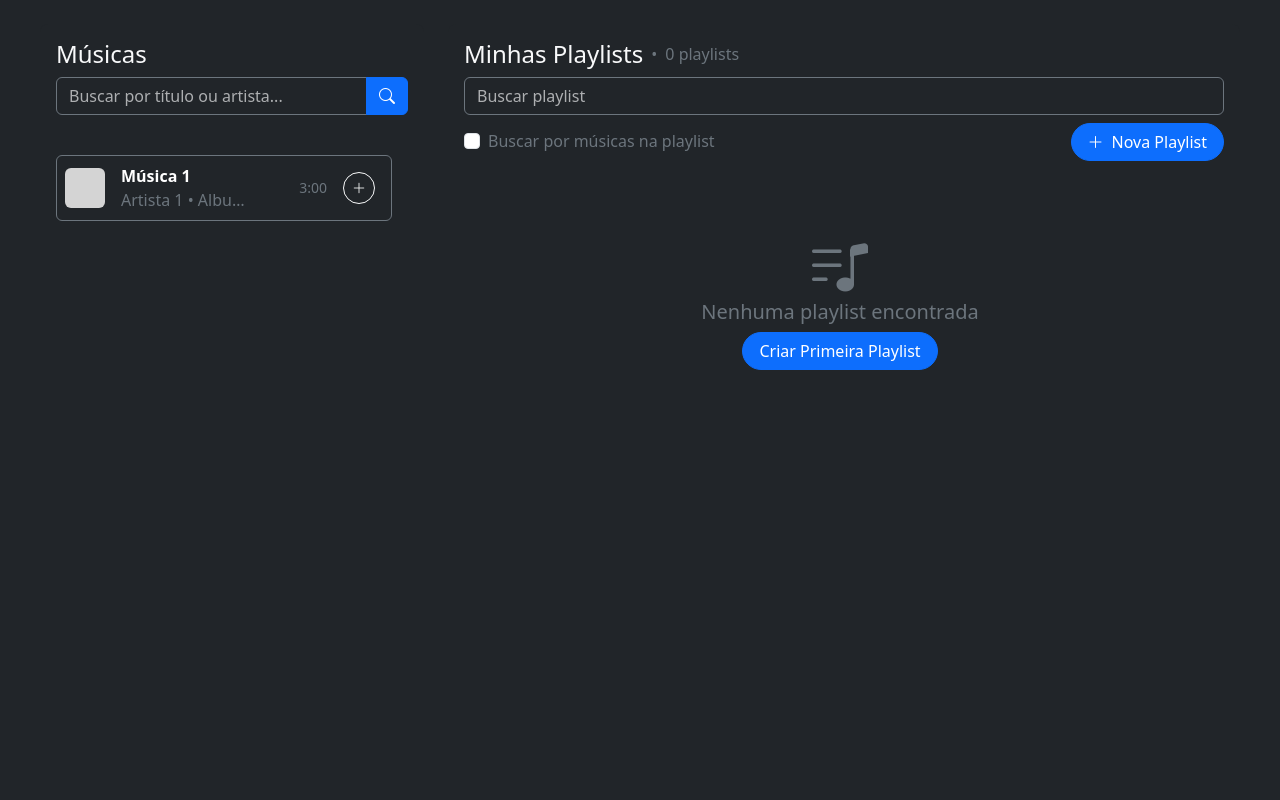
Test: Integração - Criação de Playlist › deve ser possível criar uma playlist
Note: Clica no botão de criar primeira playlist
Click the button "Criar Primeira Playlist" at (840, 351), box left=742, top=332, right=938, bottom=370
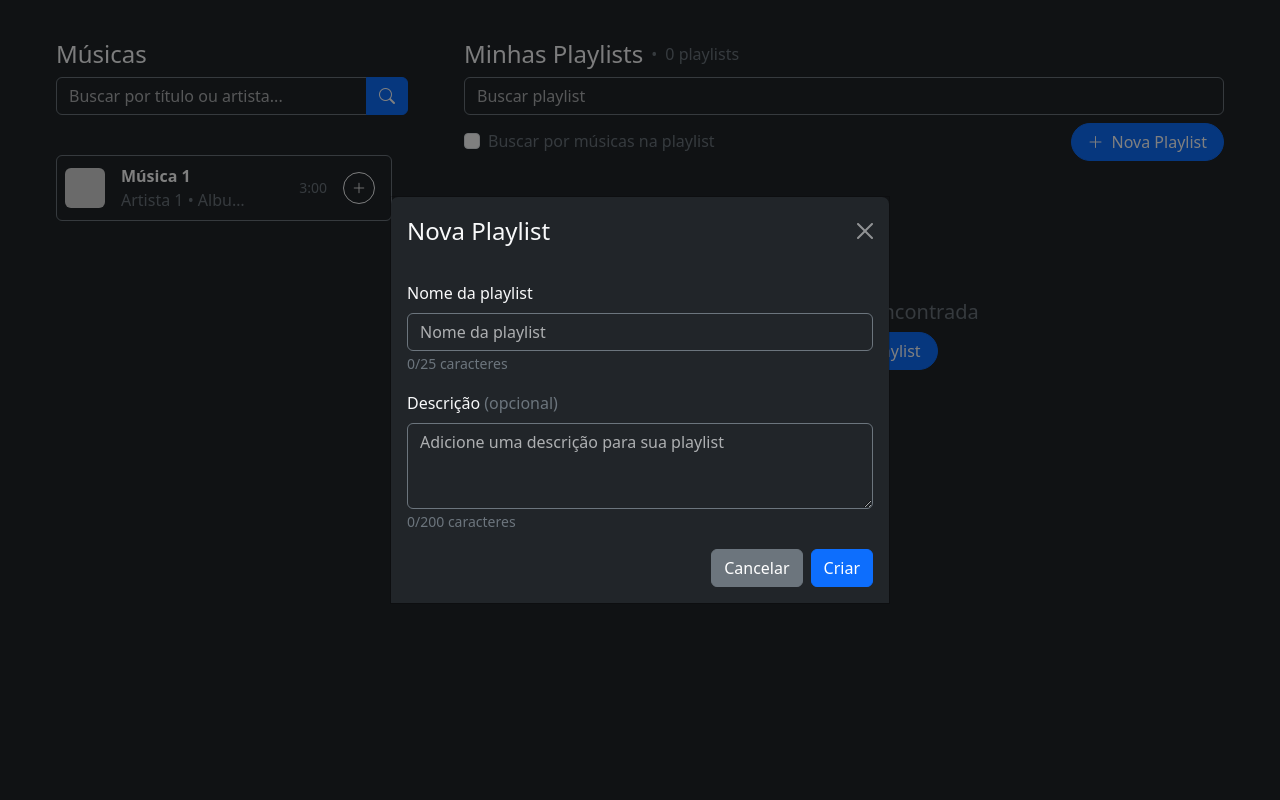
Note: Preenche o nome da playlist
Type "Teste Integração" into the field labelled "Nome da playlist" at (640, 332), box left=407, top=313, right=873, bottom=351
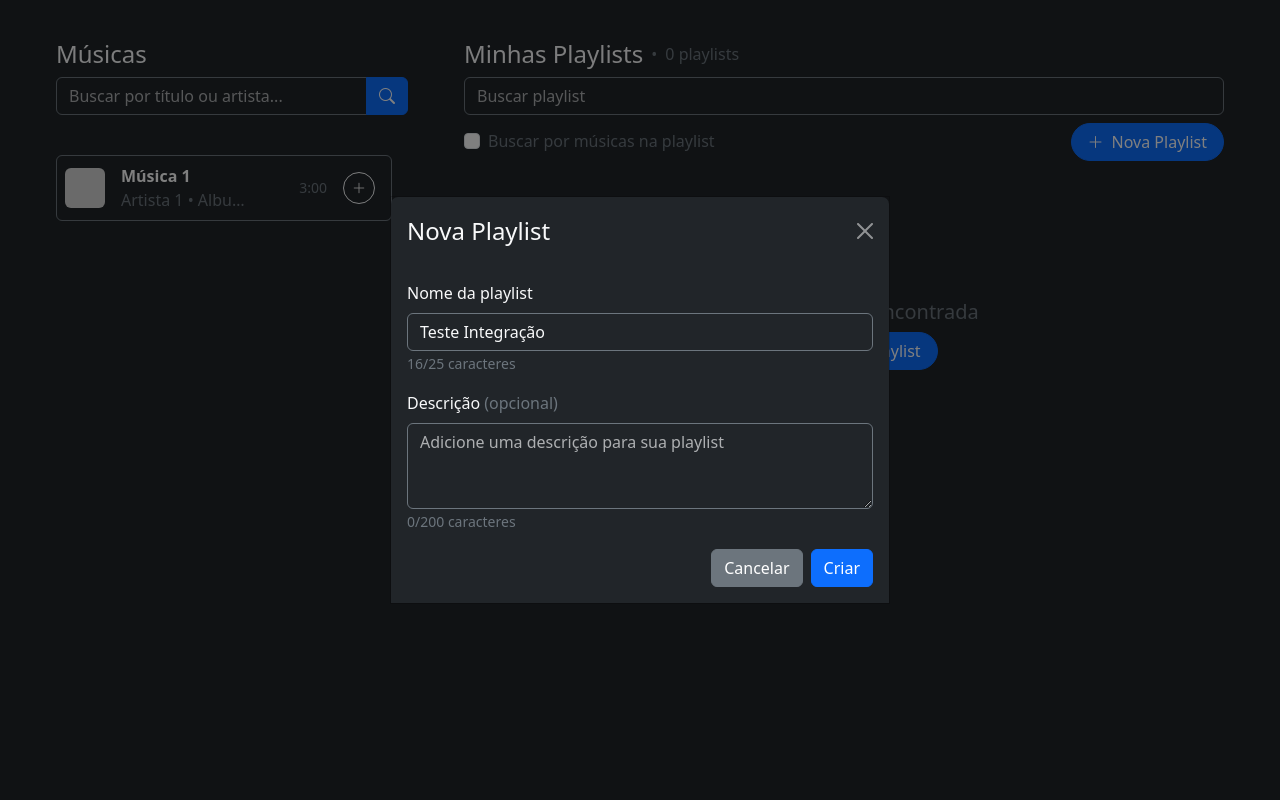
Note: Clica em criar
Click the button "Criar" at (842, 568), box left=811, top=549, right=873, bottom=587
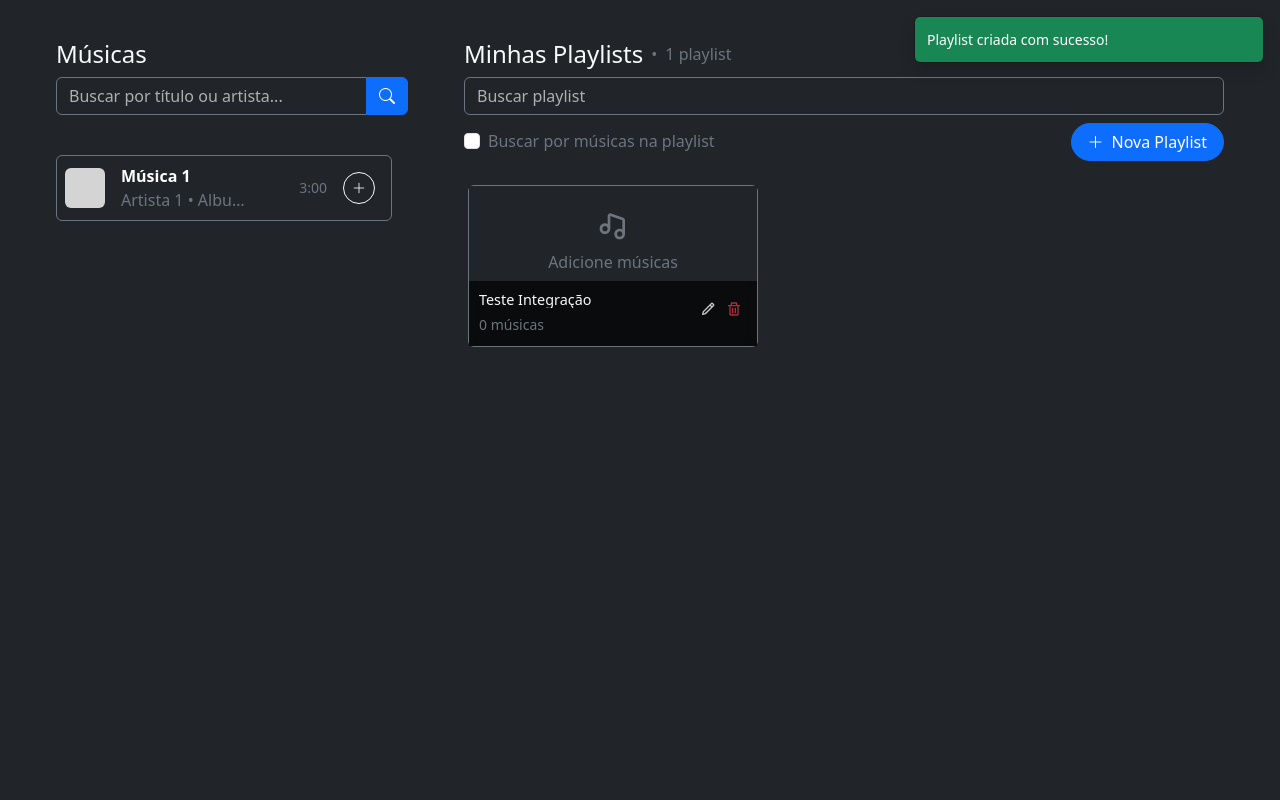
Now the heading "Teste Integração" is shown, box left=479, top=290, right=591, bottom=308
